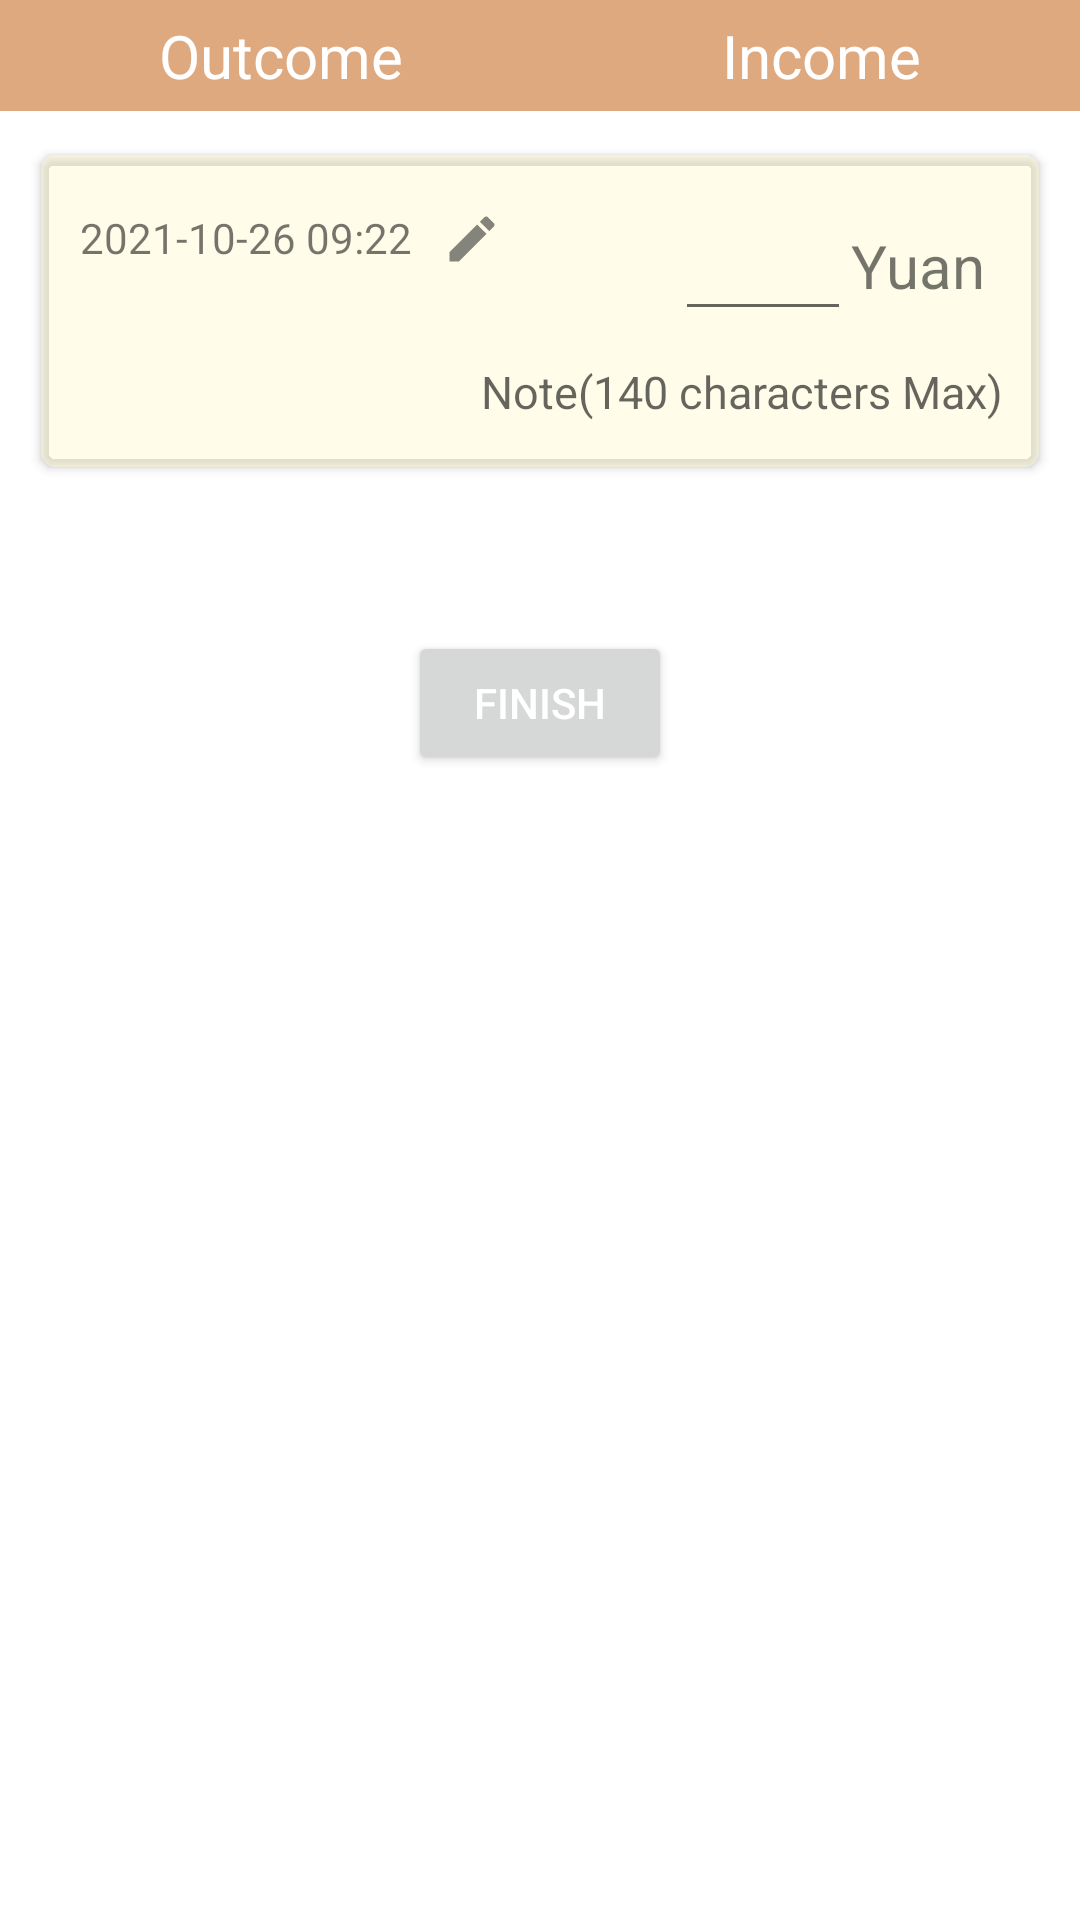

Icons on this 1080 × 1920 Android screen, each with its box as bbox=(x1, y1, x2, y2):
edit: bbox=(449, 216, 495, 262)
